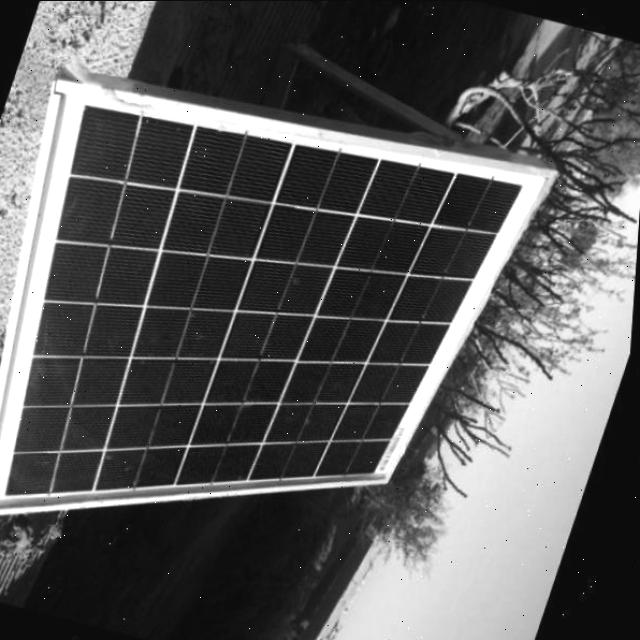Normal Solar Panel: (0, 34, 566, 630)
